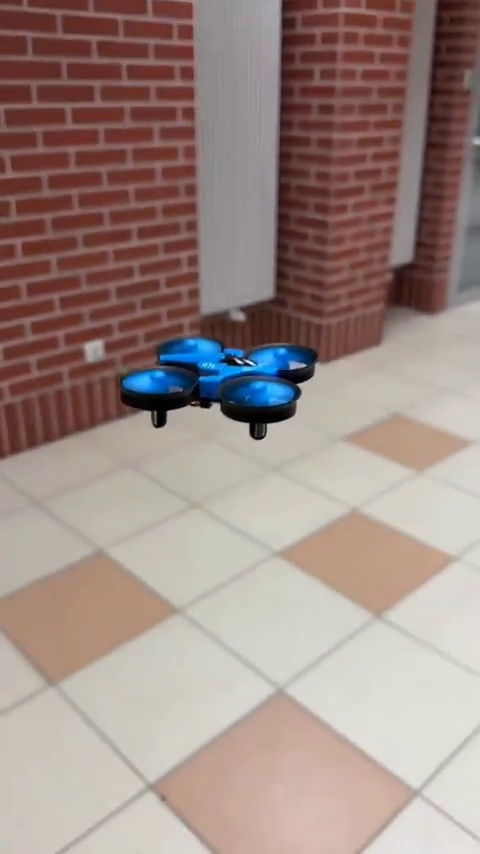drone: (129, 333, 316, 440)
